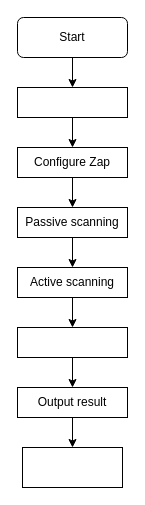
The diagram is 145 pixels wide and 505 high, and some of its shapes have lost their labels. The shapes that lost their labels are listed below. From the top down, each one's centre as x and y in pixels, then its label:
the point at 72,102: URL input
the point at 72,342: Generate report
the point at 72,467: Exit
